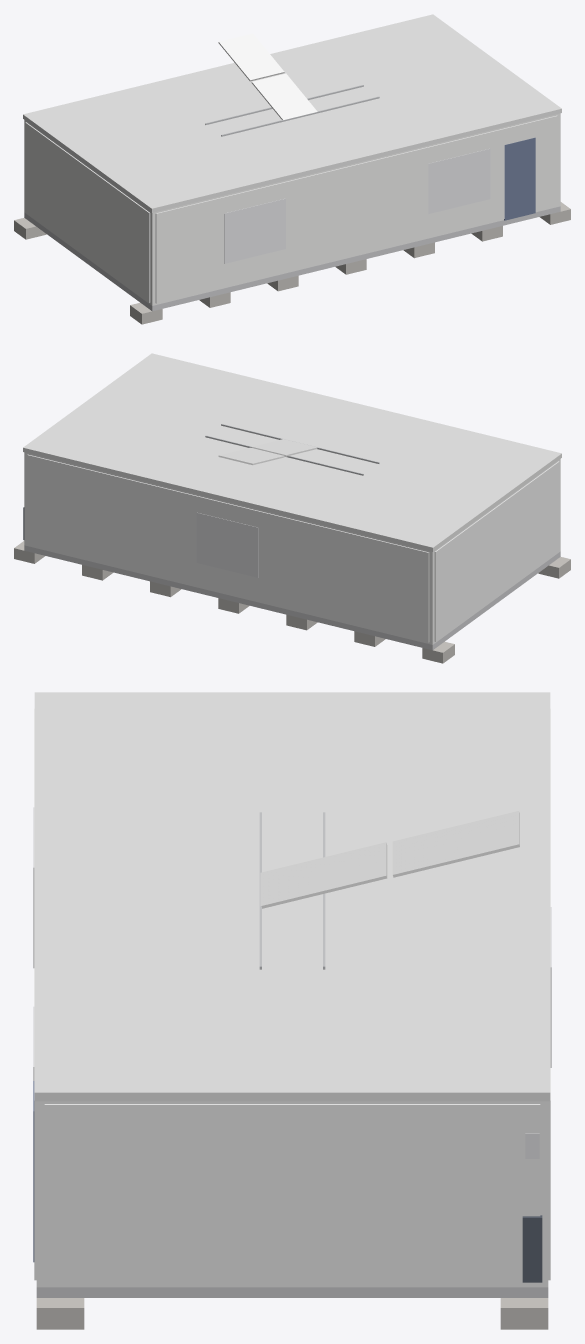
File: Studio-40-Premium+FullSolar-LOD0.glb
3 renders of one model, top to bottom at view 1: azimuth 30°, elevation 25°; view 2: azimuth 150°, elevation 25°; view 3: azimuth 270°, elevation 25°, orthographic. The views are drawn at different scales.
Visible parts, largest first — view 1: RoofMain, ExteriorPanelsPremium, WindowsLargeUpgrade, SolarPanelArray, BaseFrame, ExteriorShell, FoundationBlocks, EntryDoor, SolarMountingHardware; view 2: RoofMain, ExteriorPanelsPremium, BaseFrame, WindowsLargeUpgrade, ExteriorShell, FoundationBlocks, SolarPanelArray, SolarMountingHardware; view 3: RoofMain, ExteriorPanelsPremium, SolarPanelArray, ExteriorShell, BaseFrame, FoundationBlocks, SolarBattery, SolarMountingHardware, WindowsLargeUpgrade.
Part boxes in pixels (x1,y1,x2,y2): RoofMain: [23, 14, 561, 212]; ExteriorPanelsPremium: [25, 115, 557, 303]; WindowsLargeUpgrade: [224, 148, 490, 263]; SolarPanelArray: [218, 33, 317, 119]; BaseFrame: [24, 206, 560, 311]; ExteriorShell: [24, 113, 560, 305]; FoundationBlocks: [14, 202, 570, 324]; EntryDoor: [504, 137, 535, 220]; SolarMountingHardware: [205, 85, 379, 136]; RoofMain: [23, 353, 561, 551]; ExteriorPanelsPremium: [27, 454, 559, 642]; BaseFrame: [24, 545, 560, 650]; WindowsLargeUpgrade: [196, 512, 258, 577]; ExteriorShell: [24, 452, 560, 644]; FoundationBlocks: [14, 541, 570, 663]; SolarPanelArray: [218, 439, 317, 465]; SolarMountingHardware: [205, 424, 379, 475]; RoofMain: [34, 692, 550, 1101]; ExteriorPanelsPremium: [34, 709, 550, 1284]; SolarPanelArray: [260, 811, 519, 908]; ExteriorShell: [36, 1101, 548, 1287]; BaseFrame: [36, 1287, 548, 1297]; FoundationBlocks: [36, 1298, 548, 1329]; SolarBattery: [522, 1215, 542, 1282]; SolarMountingHardware: [259, 812, 325, 969]; WindowsLargeUpgrade: [33, 807, 551, 1080].
Size of the model in its own units: 12.49 by 4.07 by 6.53.
